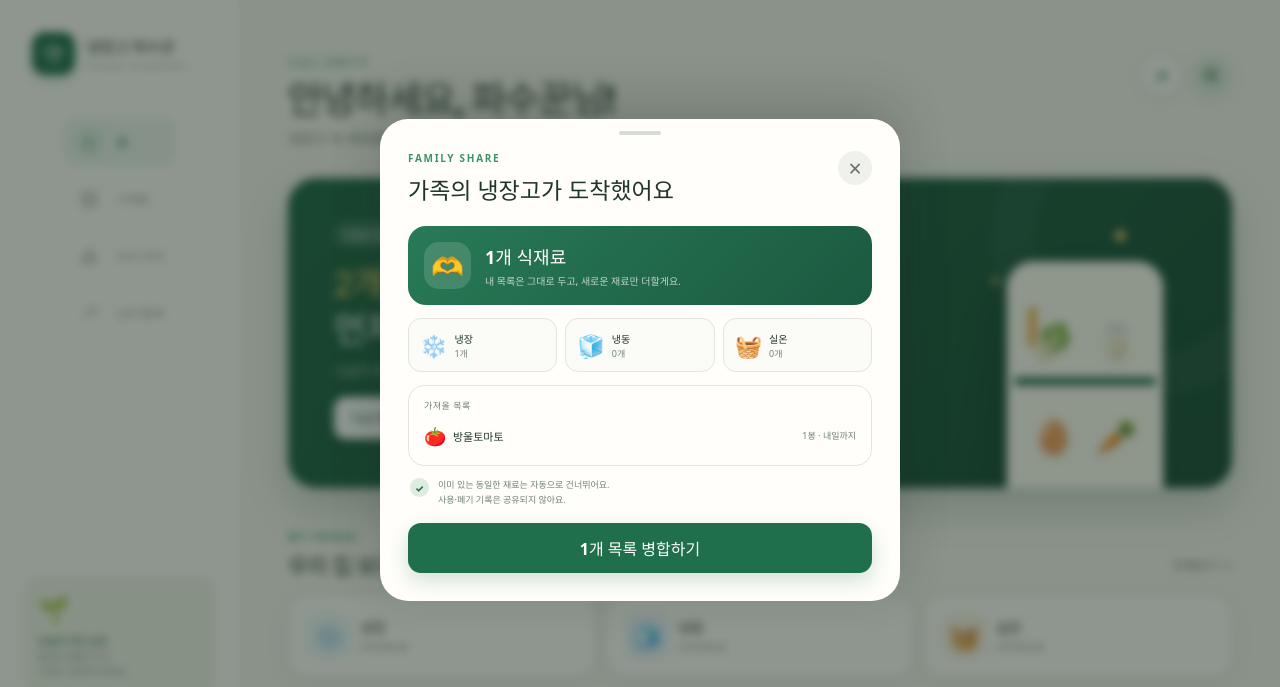
냉장고 파수꾼 › 공유 링크를 열어 새 식재료를 한 번에 병합한다
Expected: the heading "가족의 냉장고가 도착했어요" is shown, [408,172,674,206]
Click the button "1개 목록 병합하기": (640,548) [408,523,872,573]
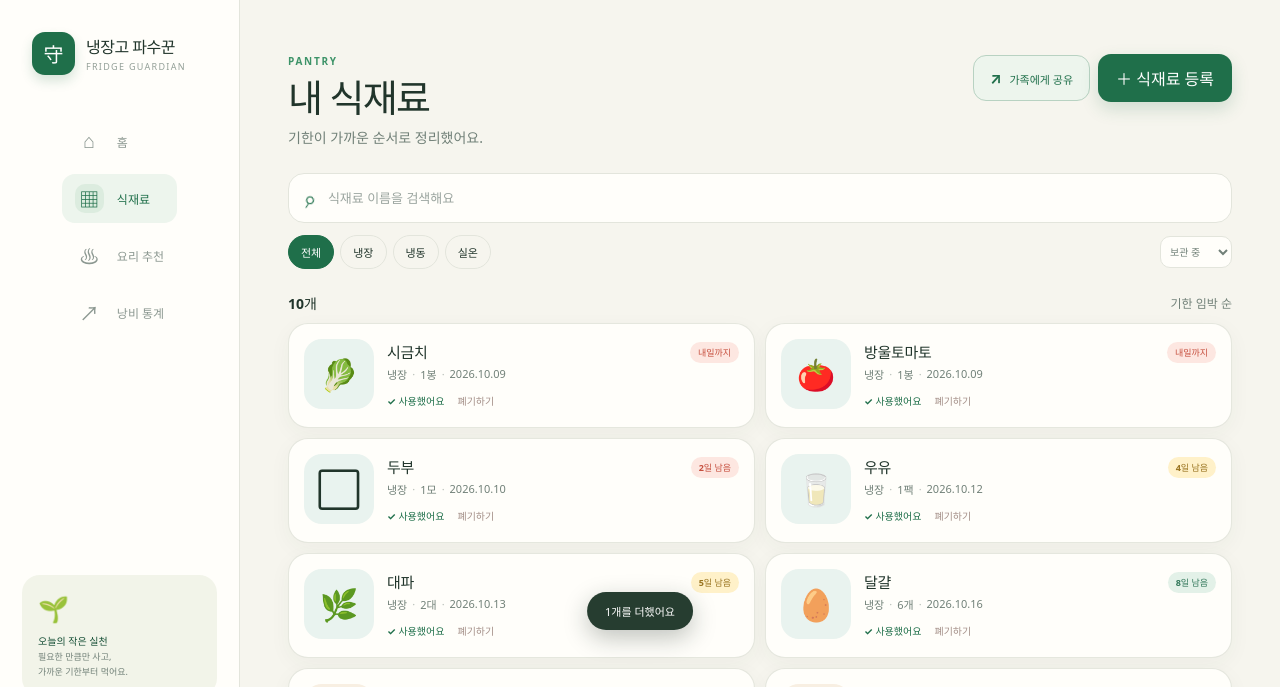
Expected: the heading "방울토마토" is shown, [864,341,932,362]
Expected: the message reads "1개를 더했어요", [605,604,675,619]
